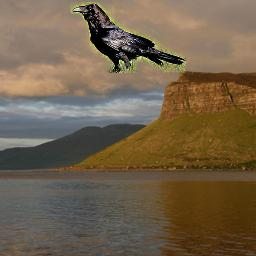Crow: (70, 2, 186, 73)
